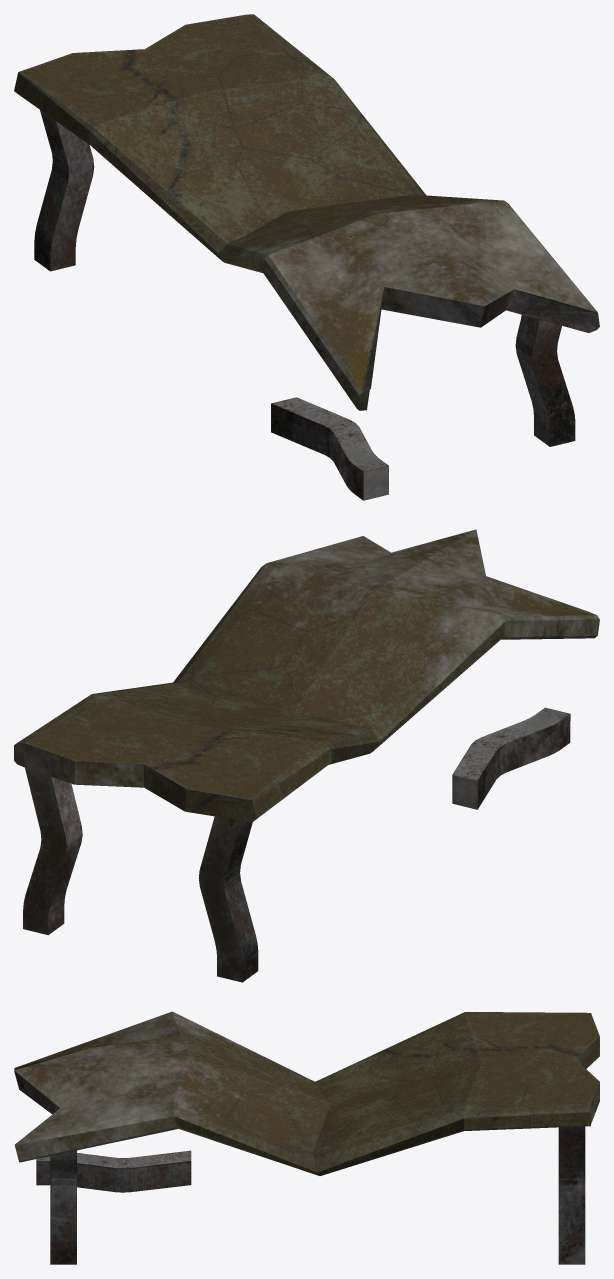
The model's file is MesaComunal_Destrozada.glb.
3 renders of one model, top to bottom at view 1: azimuth 30°, elevation 25°; view 2: azimuth 150°, elevation 25°; view 3: azimuth 270°, elevation 25°, orthographic. The views are drawn at different scales.
Parts seen in each view (by area): view 1: MesaComunal_Destrozada; view 2: MesaComunal_Destrozada; view 3: MesaComunal_Destrozada.
Part boxes in pixels (x1,y1,x2,y2): MesaComunal_Destrozada: [14, 14, 599, 500]; MesaComunal_Destrozada: [14, 529, 599, 982]; MesaComunal_Destrozada: [14, 1011, 599, 1264].
Size of the model in its own units: 1.42 by 1.04 by 3.41.
1 material, 1 textured.
